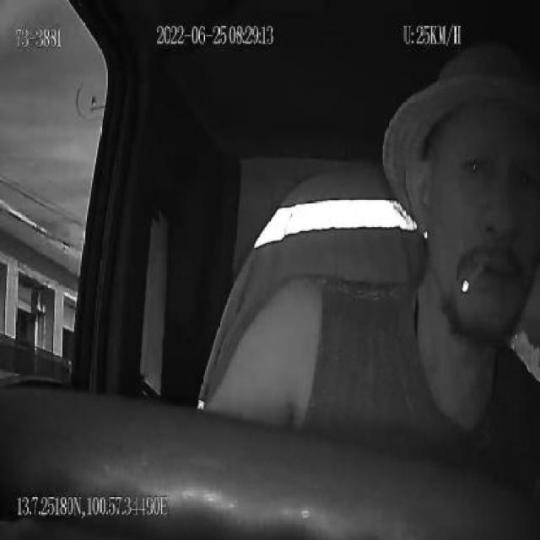smoking: (463, 262, 491, 300)
